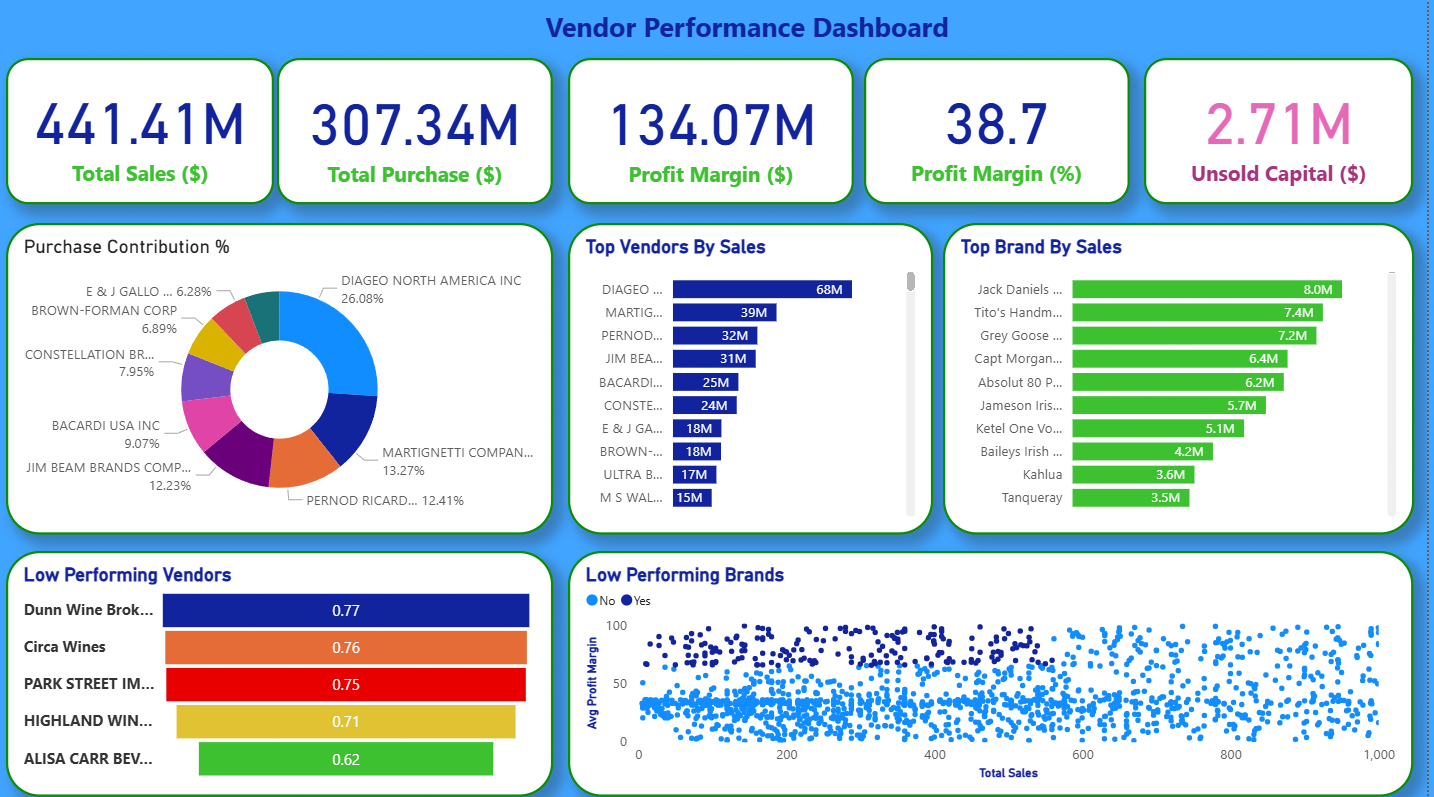

The page's visual inventory and layout, read from the dashboard file:
{"tool":"powerbi","page":{"name":"Page 1","canvas":[1280,720],"ordinal":0},"visuals":[{"type":"card","fields":{"Values":["Sum(vendor_sales_summary.TotalSalesDollars)"]},"box":[8.2,58,240.3,130.6],"z":0},{"type":"card","fields":{"Values":["Sum(vendor_sales_summary.TotalPurchaseDollars)"]},"box":[251,58,247,131],"z":1000},{"type":"card","fields":{"Values":["Sum(vendor_sales_summary.GrossProfit)"]},"box":[511,58,256,131],"z":2000},{"type":"card","fields":{"Values":["Avg(vendor_sales_summary.ProfitMargin)"]},"box":[776.2,58,237.6,130.6],"z":3000},{"type":"card","fields":{"Values":["Sum(vendor_sales_summary.UnsoldCapital)"]},"box":[1027.4,58,241.2,130.6],"z":4000},{"type":"donutChart","title":"Purchase Contribution %","fields":{"Y":["Sum(PurchaseContribution.PurchaseContribution%)"],"Category":["PurchaseContribution.VendorName"]},"box":[8.2,205.8,489.7,279.3],"z":5000},{"type":"barChart","title":"Top Vendors By Sales ","fields":{"Category":["vendor_sales_summary.VendorName"],"Y":["Sum(vendor_sales_summary.TotalSalesDollars)"]},"box":[511,206,327,279],"z":6000},{"type":"barChart","title":"Top Brand By Sales","fields":{"Category":["vendor_sales_summary.Description"],"Y":["Sum(vendor_sales_summary.TotalSalesDollars)"]},"box":[847,206,422,279],"z":7000},{"type":"funnel","title":"Low Performing Vendors","fields":{"Category":["LowTurnoverVendor.VendorName"],"Y":["Avg(LowTurnoverVendor.AvgStockTurnOver)"]},"box":[8.2,499.6,489.7,220.4],"z":8000},{"type":"scatterChart","title":"Low Performing Brands","fields":{"Category":["BrandPerformance.Description"],"Series":["BrandPerformance.TargetBrand"],"X":["Sum(BrandPerformance.TotalSales)1"],"Y":["Avg(BrandPerformance.AvgProfitMargin)"]},"box":[511,500,757,220],"z":9000},{"type":"textbox","box":[486,8,400,43],"z":10000}]}

Visuals, with their boxes in screenshot pixels (x1, y1, x2, y2), scaled from the page's 1280x720 canvas onto the 1434x797 screenshot:
card - Sum(vendor_sales_summary.TotalSalesDollars): (left=9, top=64, right=278, bottom=209)
card - Sum(vendor_sales_summary.TotalPurchaseDollars): (left=281, top=64, right=558, bottom=209)
card - Sum(vendor_sales_summary.GrossProfit): (left=572, top=64, right=859, bottom=209)
card - Avg(vendor_sales_summary.ProfitMargin): (left=870, top=64, right=1136, bottom=209)
card - Sum(vendor_sales_summary.UnsoldCapital): (left=1151, top=64, right=1421, bottom=209)
"Purchase Contribution %" donutChart: (left=9, top=228, right=558, bottom=537)
"Top Vendors By Sales " barChart: (left=572, top=228, right=939, bottom=537)
"Top Brand By Sales" barChart: (left=949, top=228, right=1422, bottom=537)
"Low Performing Vendors" funnel: (left=9, top=553, right=558, bottom=796)
"Low Performing Brands" scatterChart: (left=572, top=553, right=1421, bottom=796)
textbox: (left=544, top=9, right=993, bottom=56)
